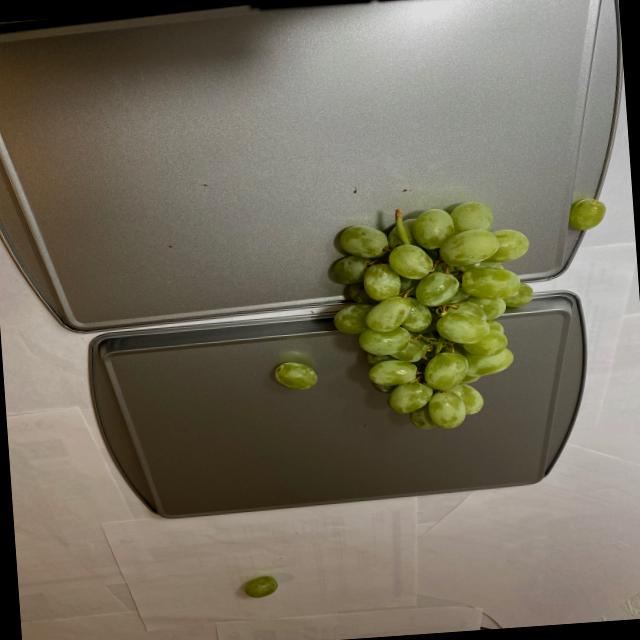grapes: (312, 190, 546, 437), (266, 355, 322, 390), (558, 198, 612, 232), (242, 575, 282, 600)
